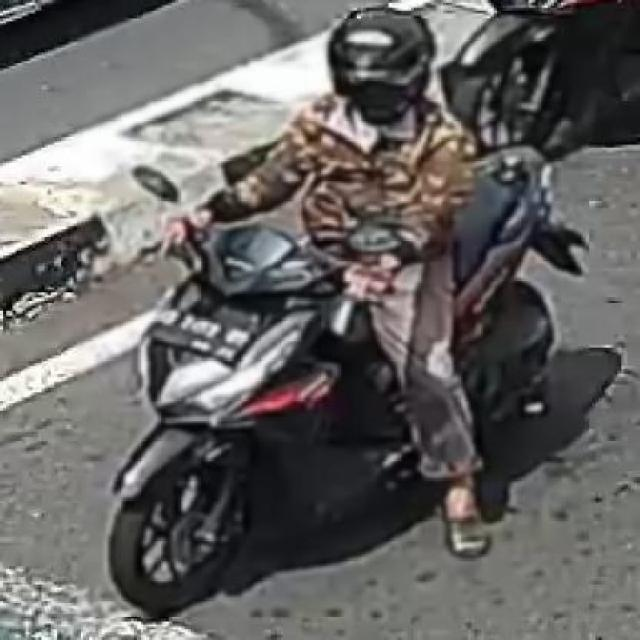helmet: (292, 0, 440, 128)
motorcycle: (86, 0, 569, 602)
